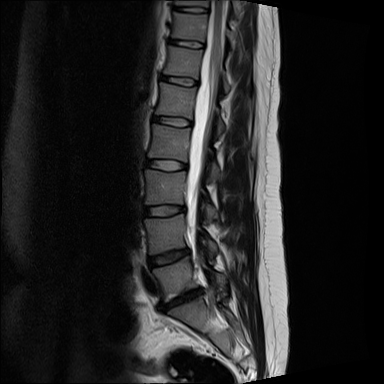Lumbar Disc Bulge (LDB): (144, 276, 208, 316), (134, 236, 195, 274)
Normal IVD: (140, 151, 191, 176), (136, 200, 190, 222), (155, 68, 202, 91), (147, 110, 196, 131), (164, 33, 206, 53), (169, 3, 210, 16)
Spinal Stenosis (SS): (190, 272, 214, 313)
